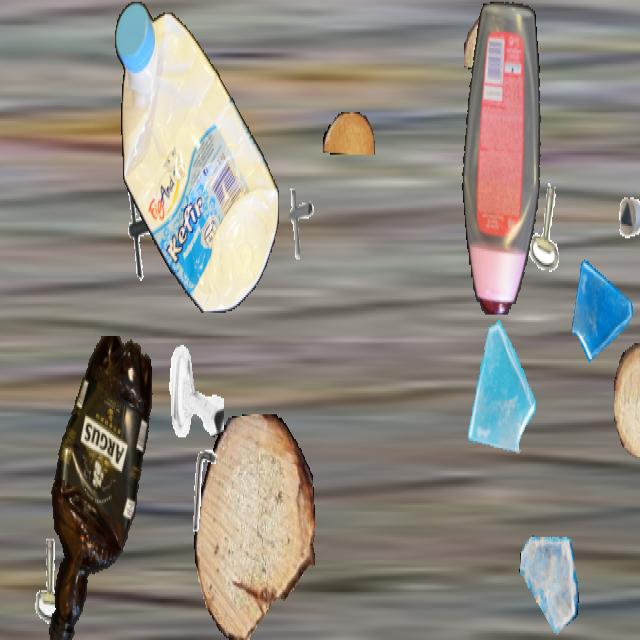glass: (457, 318, 537, 461), (569, 249, 635, 366), (519, 532, 579, 638)
metal: (117, 176, 177, 283), (166, 340, 224, 442), (25, 532, 81, 631), (521, 178, 577, 277), (179, 442, 233, 538), (277, 183, 321, 261), (618, 172, 640, 265)
plastic: (115, 2, 279, 311), (39, 336, 159, 638), (461, 2, 545, 314)
wood: (194, 414, 314, 638), (464, 16, 538, 73), (614, 343, 640, 457), (323, 112, 375, 155)
